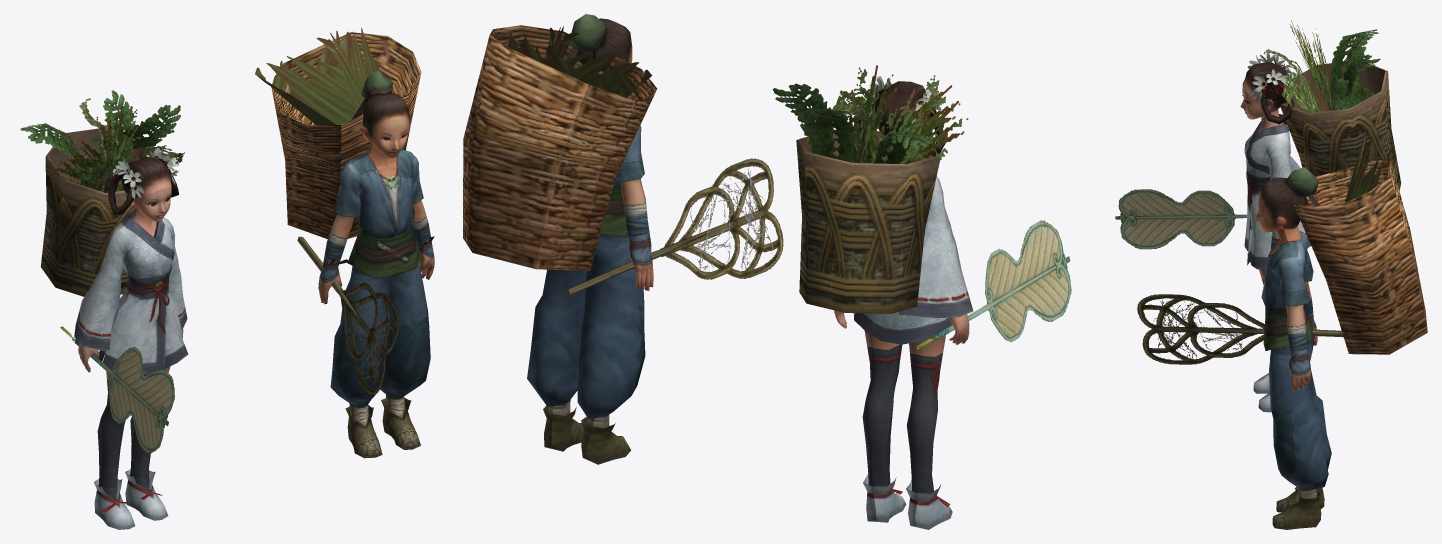
Rendered from XiaoHai01.FBX.
The picture shows the model from 3 angles, left to right: view 1: azimuth 30°, elevation 25°; view 2: azimuth 150°, elevation 25°; view 3: azimuth 270°, elevation 25°; orthographic projection. The views are drawn at different scales.
Visible parts, largest first — view 1: DrawCall_0998, DrawCall_0996, DrawCall_0680, DrawCall_0679, DrawCall_0662, DrawCall_0661, DrawCall_0667, DrawCall_0677; view 2: DrawCall_0680, DrawCall_0679, DrawCall_0998, DrawCall_0996, DrawCall_0661, DrawCall_0662, DrawCall_0677, DrawCall_0667; view 3: DrawCall_0680, DrawCall_0998, DrawCall_0679, DrawCall_0662, DrawCall_0661, DrawCall_0996, DrawCall_0677, DrawCall_0667.
Part boxes in pixels (bbox=[...]): DrawCall_0998: bbox=[318, 143, 434, 458]; DrawCall_0996: bbox=[74, 206, 188, 529]; DrawCall_0680: bbox=[255, 27, 421, 238]; DrawCall_0679: bbox=[20, 90, 184, 296]; DrawCall_0662: bbox=[60, 326, 174, 453]; DrawCall_0661: bbox=[297, 236, 398, 395]; DrawCall_0667: bbox=[107, 147, 179, 221]; DrawCall_0677: bbox=[351, 71, 409, 158]; DrawCall_0680: bbox=[463, 25, 657, 270]; DrawCall_0679: bbox=[772, 65, 968, 313]; DrawCall_0998: bbox=[527, 125, 653, 464]; DrawCall_0996: bbox=[834, 176, 973, 529]; DrawCall_0661: bbox=[565, 158, 783, 295]; DrawCall_0662: bbox=[916, 220, 1071, 349]; DrawCall_0677: bbox=[566, 14, 632, 70]; DrawCall_0667: bbox=[858, 76, 945, 153]; DrawCall_0680: bbox=[1292, 129, 1427, 354]; DrawCall_0998: bbox=[1261, 226, 1331, 529]; DrawCall_0679: bbox=[1263, 20, 1400, 190]; DrawCall_0662: bbox=[1115, 189, 1246, 249]; DrawCall_0661: bbox=[1137, 294, 1343, 364]; DrawCall_0996: bbox=[1244, 109, 1311, 412]; DrawCall_0677: bbox=[1254, 167, 1319, 232]; DrawCall_0667: bbox=[1240, 51, 1294, 124].
Bounding box in the file's own units: 143 × 136 × 104.
